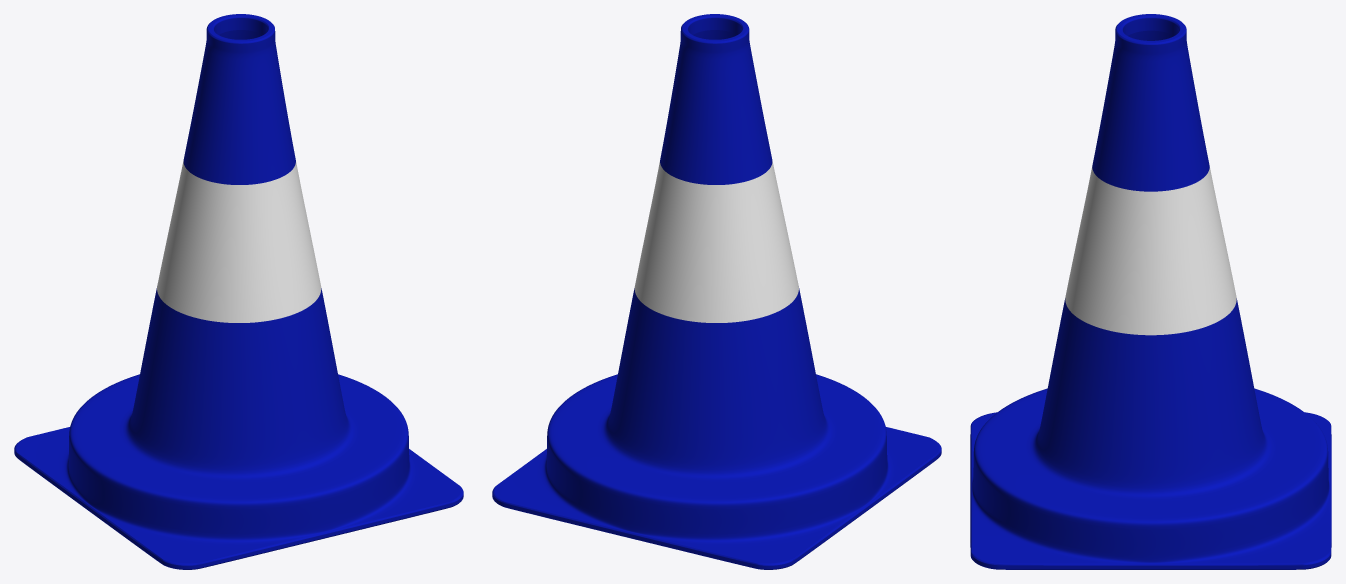
The model's file is blue_cone.fbx.
3 views of the same model, side by side, from view 1: azimuth 30°, elevation 25°; view 2: azimuth 150°, elevation 25°; view 3: azimuth 270°, elevation 25° (orthographic). The views are drawn at different scales.
Parts seen in each view (by area): view 1: Cono; view 2: Cono; view 3: Cono.
Part boxes in pixels (left/top/right/bottom): Cono: left=14, top=14, right=463, bottom=569; Cono: left=492, top=14, right=941, bottom=569; Cono: left=970, top=14, right=1331, bottom=569.
Size of the model in its own units: 22.8 by 32.5 by 22.8.
